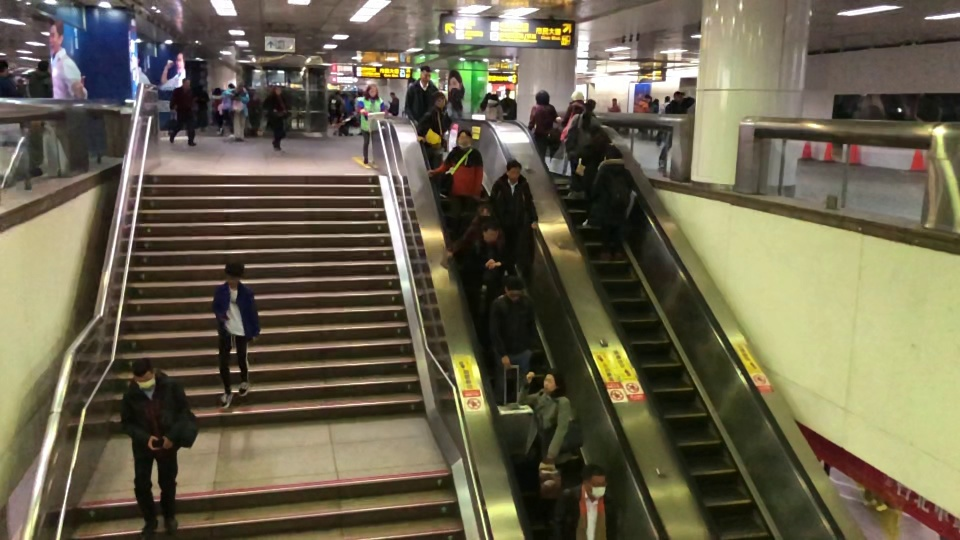person_head: (579, 463, 609, 500), (132, 356, 155, 390), (541, 367, 565, 394), (502, 276, 525, 302), (222, 260, 244, 287), (504, 158, 522, 182), (480, 221, 498, 244), (603, 145, 623, 164), (429, 90, 447, 110), (455, 128, 473, 148), (475, 203, 495, 220), (589, 124, 607, 142), (534, 89, 550, 106), (364, 83, 379, 99), (419, 64, 431, 83), (582, 98, 596, 113), (570, 89, 584, 103), (448, 87, 462, 100), (37, 59, 49, 73), (0, 59, 9, 77), (672, 91, 683, 105), (271, 85, 282, 97), (181, 77, 190, 88), (488, 94, 499, 103), (16, 77, 24, 87), (236, 80, 244, 90), (213, 87, 221, 96), (643, 94, 651, 103), (503, 88, 510, 98), (248, 92, 256, 100), (663, 95, 670, 104), (197, 84, 204, 92), (356, 88, 363, 96), (227, 83, 234, 90), (333, 89, 340, 96), (610, 98, 617, 105), (652, 98, 659, 105), (389, 91, 395, 98), (342, 93, 347, 100)
person_vbox: (118, 356, 190, 540), (517, 367, 575, 528), (453, 221, 510, 351), (211, 259, 260, 410), (487, 276, 537, 405), (427, 128, 484, 234), (488, 158, 539, 276), (585, 145, 632, 262), (548, 464, 618, 540), (415, 90, 453, 199), (565, 98, 601, 199), (579, 124, 612, 226), (446, 203, 505, 258), (657, 91, 695, 171), (353, 83, 385, 165), (559, 89, 584, 190), (403, 64, 439, 127), (527, 89, 558, 161), (167, 77, 197, 147), (261, 84, 289, 151), (229, 80, 250, 143), (27, 58, 53, 98), (327, 89, 345, 136), (633, 94, 651, 140), (0, 59, 21, 97), (655, 95, 670, 146), (220, 83, 235, 133), (210, 87, 224, 136), (246, 92, 261, 137), (478, 94, 503, 121), (195, 84, 209, 132), (15, 77, 27, 131), (444, 87, 464, 119), (498, 88, 517, 120), (342, 92, 353, 137), (607, 98, 621, 133), (647, 98, 659, 138), (353, 88, 363, 128), (387, 90, 399, 117)
